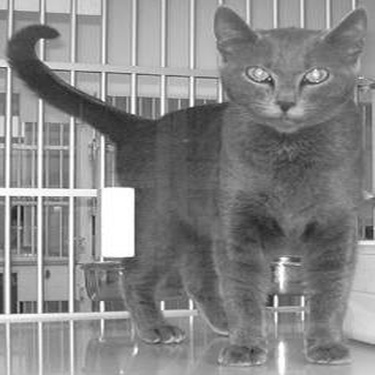cat: (11, 7, 366, 366)
